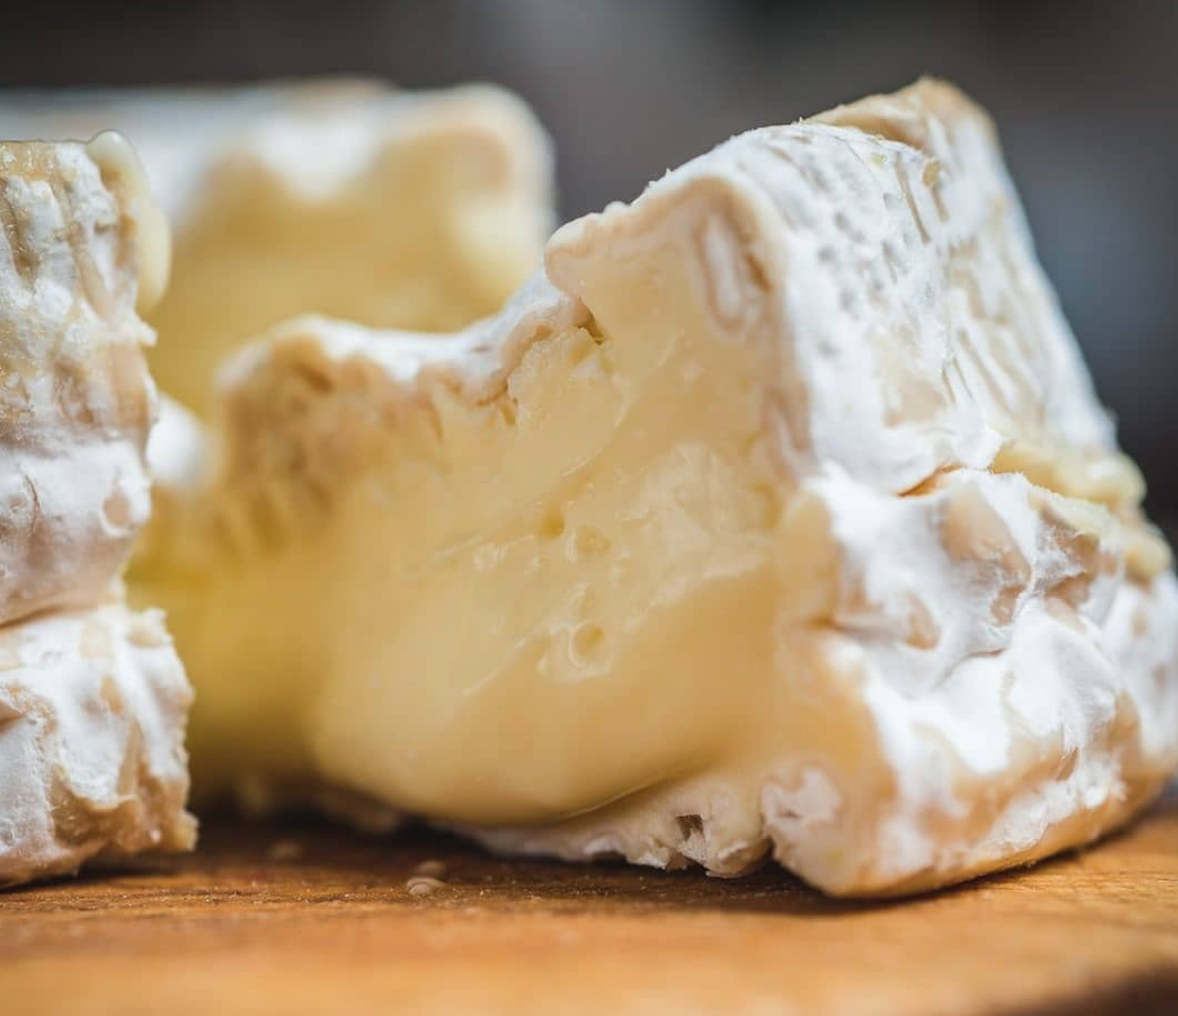camembert: (1, 73, 1176, 907)
